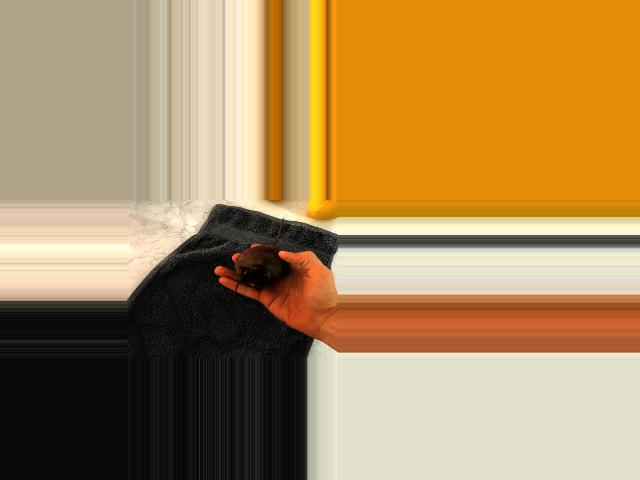beet: (235, 218, 290, 288)
